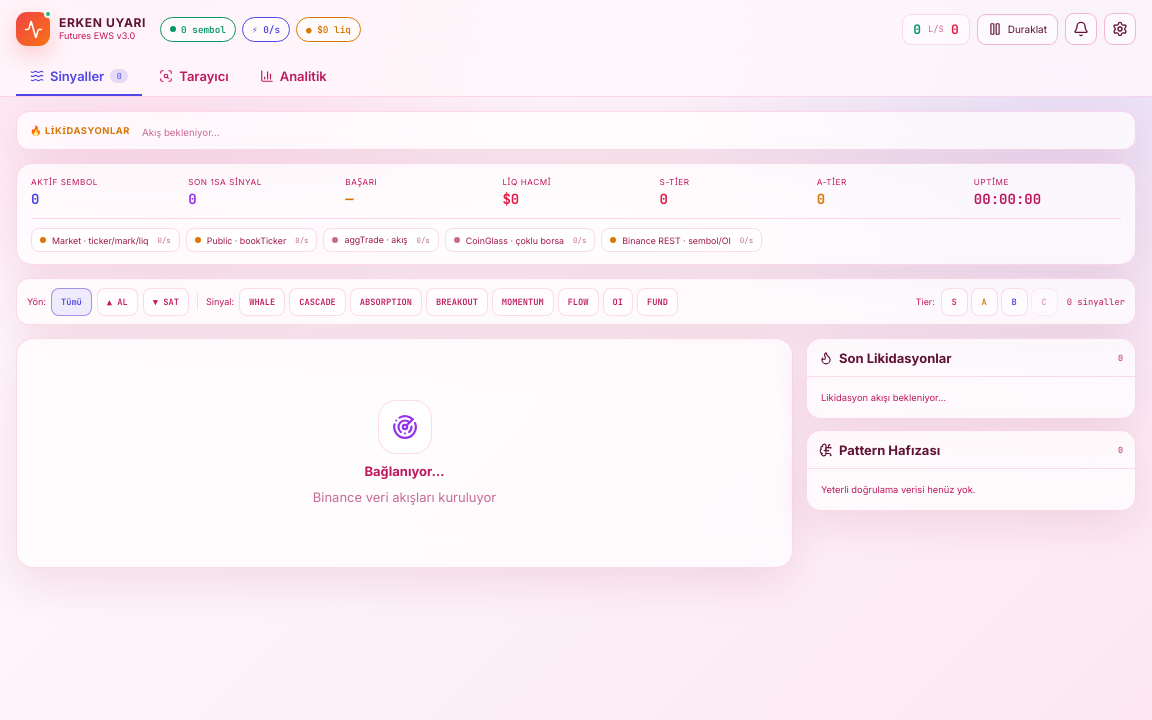
Test: React application shell › renders navigation and switches between primary pages
The width and height of the screenshot is (1152, 720).
expect the text "ERKEN UYARI" is shown: met, box [59, 16, 146, 31]
Click the tab "Tarayıcı" at (194, 77), box [145, 58, 243, 96]
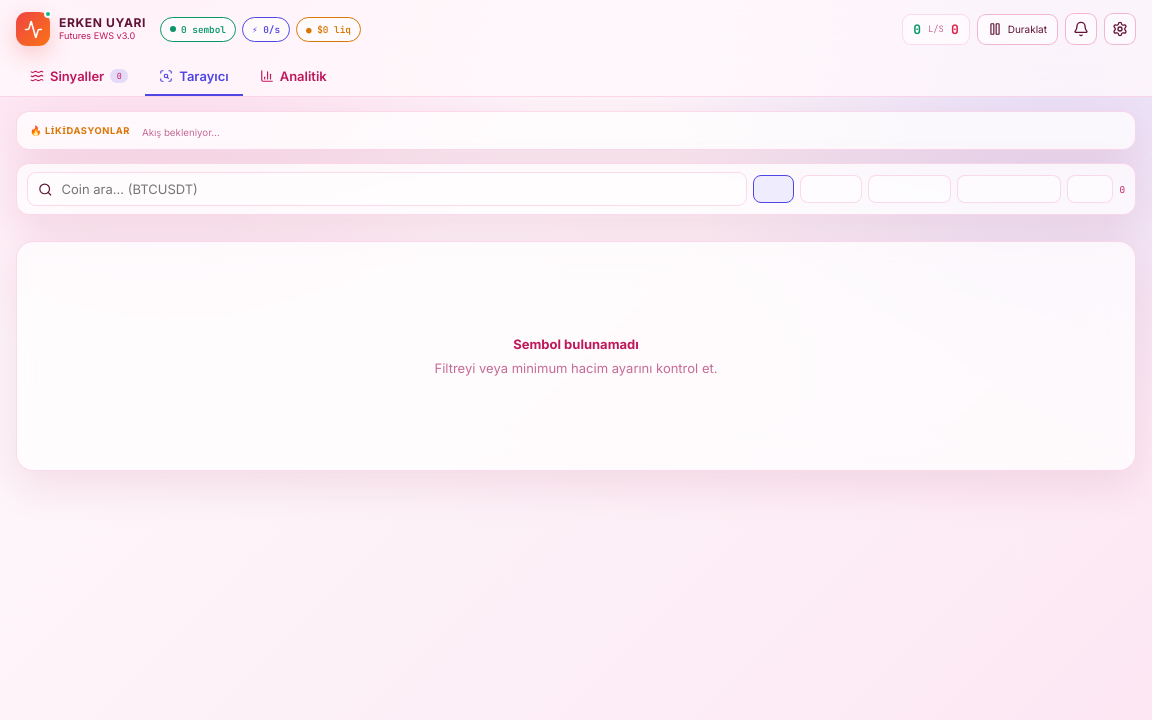
expect the field with placeholder "Coin ara… (BTCUSDT)" is shown: met, box [60, 173, 736, 205]
Click the tab "Analitik" at (293, 77), box [246, 58, 341, 96]
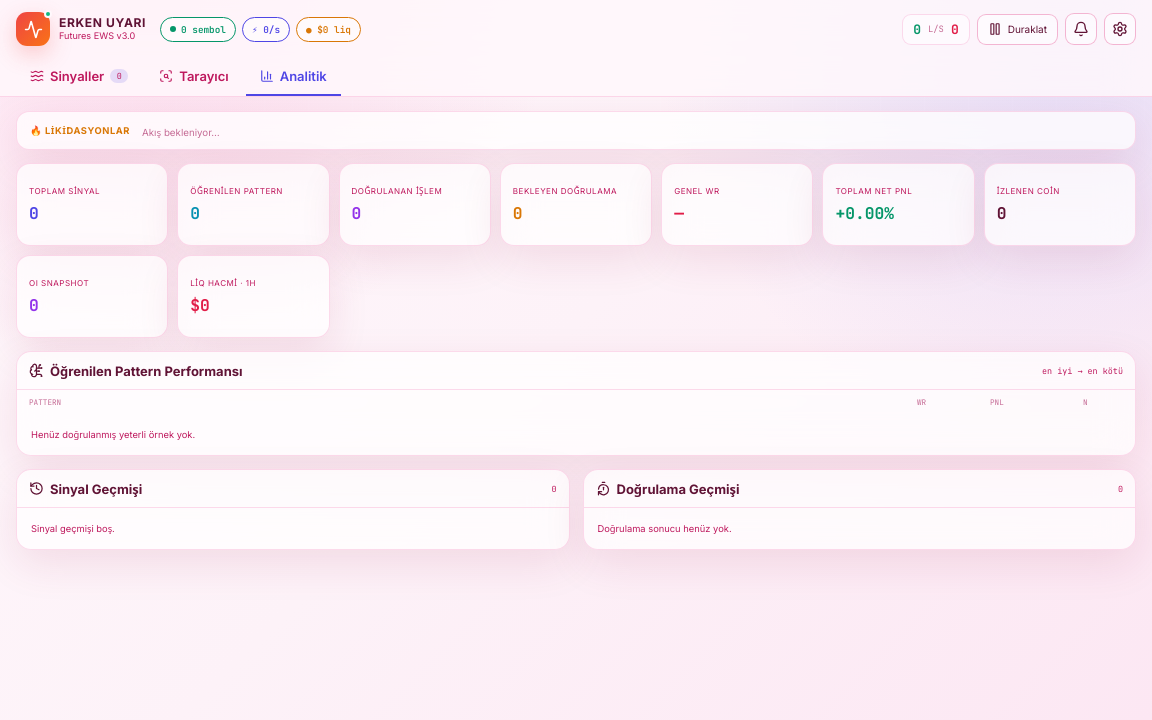
expect the text "Toplam Sinyal" is shown: met, box [29, 186, 100, 196]
